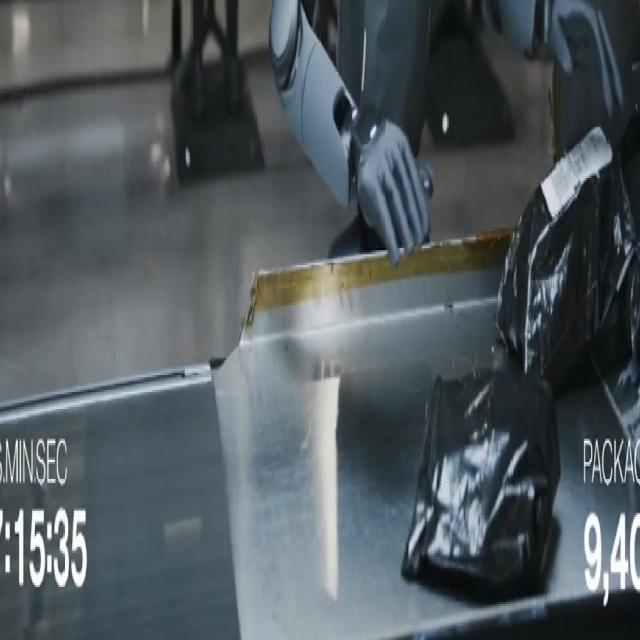package: (402, 365, 560, 597), (497, 130, 635, 392), (621, 238, 639, 362), (621, 251, 639, 362)
